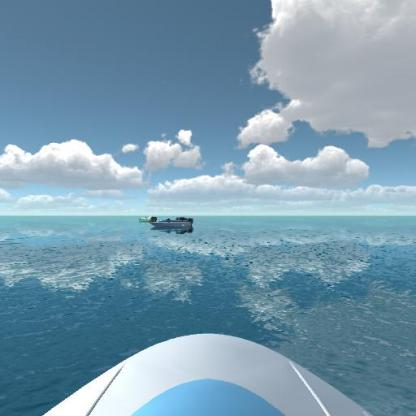usv0: (137, 212, 158, 224)
usv1: (151, 213, 198, 234)
